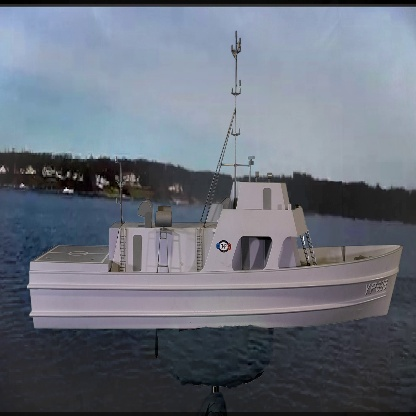YP689: (26, 29, 404, 333)
